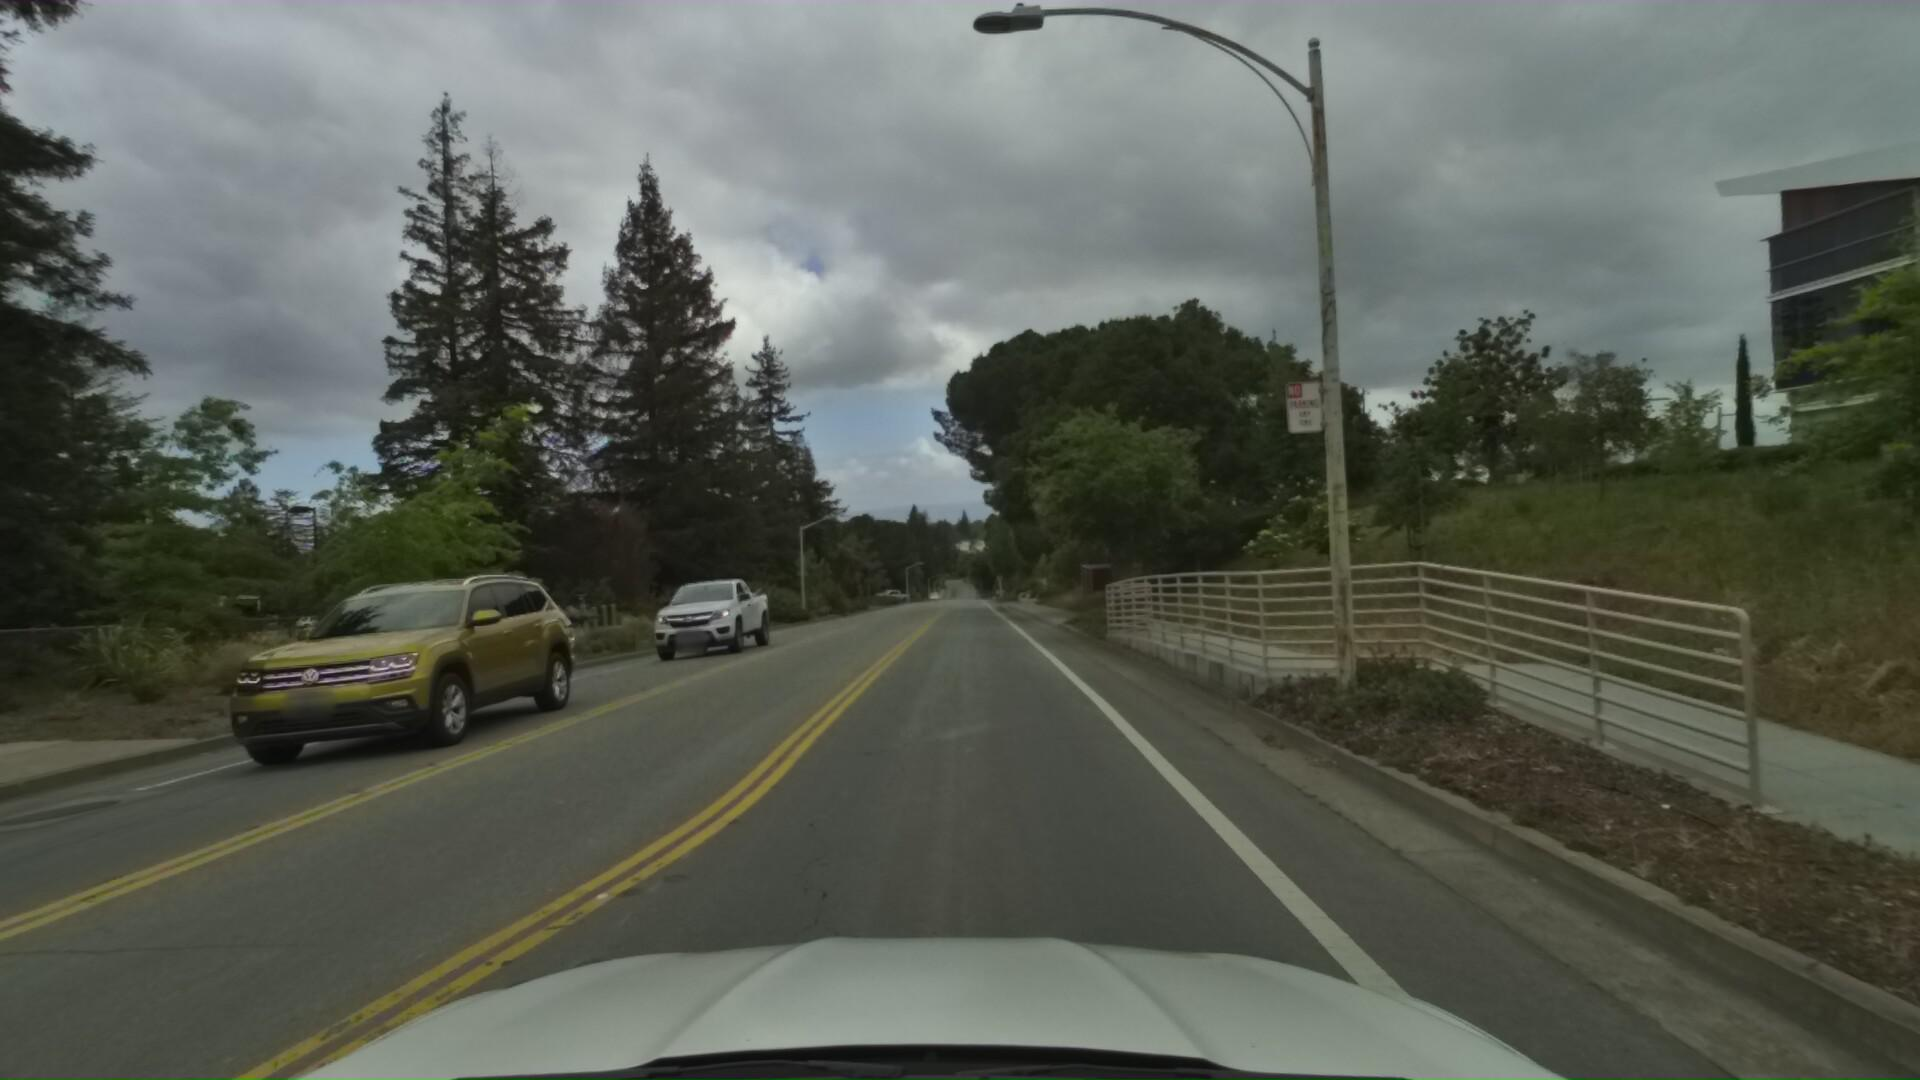car: (141, 560, 578, 806), (630, 566, 769, 669)
